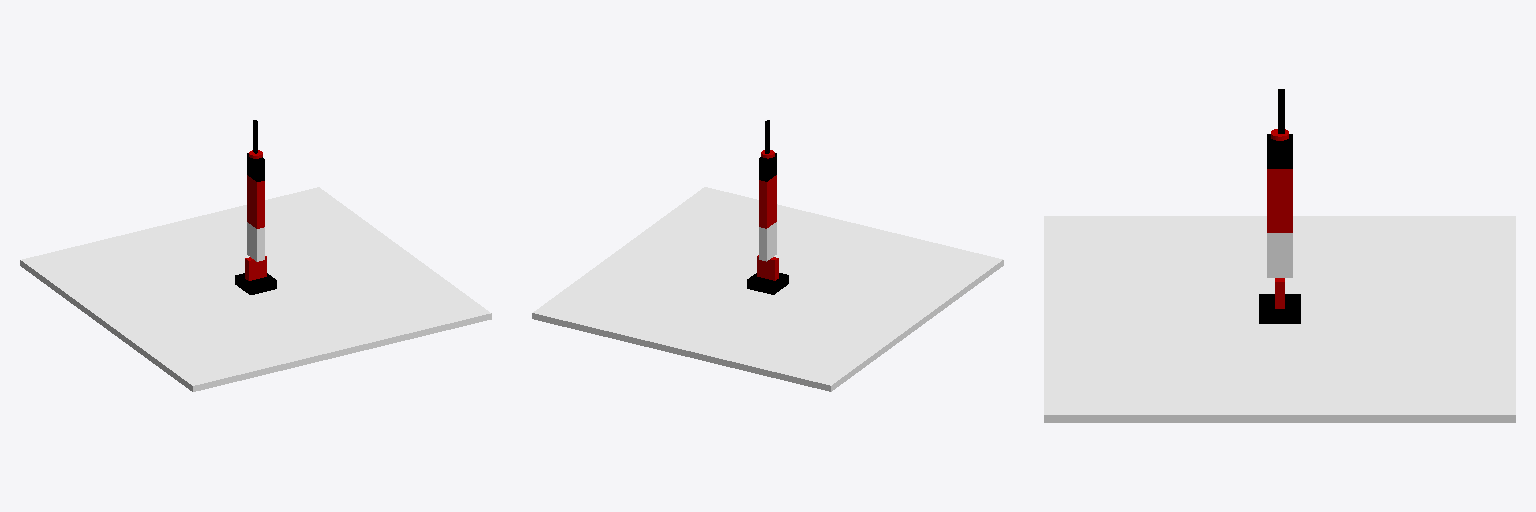
The robot description file, URDF, robot "six_dof_arm":
<?xml version="1.0" ?>
<!-- =================================================================================== -->
<!-- |    This document was autogenerated by xacro from six_dof_arm.xacro              | -->
<!-- |    EDITING THIS FILE BY HAND IS NOT RECOMMENDED                                 | -->
<!-- =================================================================================== -->
<robot name="six_dof_arm" xmlns:xacro="http://ros.org/wiki/xacro">
  <!-- Include materials -->
  <material name="Black">
    <color rgba="0.0 0.0 0.0 1.0"/>
  </material>
  <material name="Red">
    <color rgba="0.8 0.0 0.0 1.0"/>
  </material>
  <material name="White">
    <color rgba="1.0 1.0 1.0 1.0"/>
  </material>
  <!-- BOTTOM FIXED LINK 
This link is the base of the arm in which arm is placed 

-->
  <!-- ///////////////////////////////////////////////////////////////////////////////////////////////////////////////////// -->
  <joint name="bottom_joint" type="fixed">
    <origin rpy="0 0 0" xyz="0 0 0"/>
    <parent link="bottom_link"/>
    <child link="base_link"/>
  </joint>
  <link name="bottom_link">
    <visual>
      <origin rpy="0 0 0" xyz=" 0 0 0"/>
      <geometry>
        <box size="1 1 0.02"/>
      </geometry>
      <material name="White"/>
    </visual>
    <collision>
      <origin rpy="0 0 0" xyz=" 0 0 0"/>
      <geometry>
        <box size="1 1 0.02"/>
      </geometry>
    </collision>
    &gt;

  
  </link>
  <gazebo reference="bottom_link">
    <material>Gazebo/White</material>
  </gazebo>
  <!-- ///////////////////////////////////////////////////////////////////////////////////////////////////////////////////// -->
  <!-- BASE LINK -->
  <link name="base_link">
    <visual>
      <origin rpy="0 0 0" xyz="0 0 0.024"/>
      <!-- rotate PI/2 -->
      <geometry>
        <box size="0.09 0.09 0.028"/>
      </geometry>
      <material name="Black"/>
    </visual>
    <collision>
      <origin rpy="0 0 0" xyz="0 0 0.024"/>
      <!-- rotate PI/2 -->
      <geometry>
        <box size="0.09 0.09 0.028"/>
      </geometry>
    </collision>
    &gt;
	
    <inertial>
      <mass value="1"/>
      <inertia ixx="1.0" ixy="0.0" ixz="0.0" iyy="0.5" iyz="0.0" izz="1.0"/>
    </inertial>
  </link>
  <gazebo reference="base_link">
    <material>Gazebo/Black</material>
  </gazebo>
  <joint name="shoulder_pan_joint" type="revolute">
    <parent link="base_link"/>
    <child link="shoulder_pan_link"/>
    <origin rpy="0 0 0" xyz="0 0 0.038"/>
    <axis xyz="0 0 1"/>
    <limit effort="300" lower="-0.95993167404" upper="2.1816457596" velocity="1"/>
    <dynamics damping="50" friction="1"/>
  </joint>
  <!-- ///////////////////////////////////////////////////////////////////////////////////////////////////////////////////// -->
  <!-- SHOULDER PAN LINK -->
  <link name="shoulder_pan_link">
    <visual>
      <origin rpy="0 0 0" xyz="0 0 0.0325"/>
      <geometry>
        <box size="0.06 0.02 0.065"/>
      </geometry>
      <material name="Red"/>
    </visual>
    <collision>
      <origin rpy="0 0 0" xyz="0 0 0.0325"/>
      <geometry>
        <box size="0.06 0.02 0.065"/>
      </geometry>
    </collision>
    <inertial>
      <mass value="1"/>
      <inertia ixx="1.0" ixy="0.0" ixz="0.0" iyy="0.5" iyz="0.0" izz="1.0"/>
    </inertial>
  </link>
  <gazebo reference="shoulder_pan_link">
    <material>Gazebo/Red</material>
  </gazebo>
  <joint name="shoulder_pitch_joint" type="revolute">
    <parent link="shoulder_pan_link"/>
    <child link="shoulder_pitch_link"/>
    <origin rpy="0 0 0" xyz="0 0 0.065"/>
    <axis xyz="0 1 0"/>
    <limit effort="300" lower="-1.396122596" upper="1.7453417404" velocity="1"/>
    <dynamics damping="50" friction="1"/>
  </joint>
  <!-- ///////////////////////////////////////////////////////////////////////////////////////////////////////////////////// -->
  <!-- SHOULDER PITCH LINK -->
  <link name="shoulder_pitch_link">
    <visual>
      <origin rpy="1.570795 1.570795 1.570795" xyz="0.0 0 0.0525"/>
      <geometry>
        <box size="0.105 0.057 0.025"/>
      </geometry>
      <material name="White"/>
    </visual>
    <collision>
      <origin rpy="1.570795 1.570795 1.570795" xyz="0.0 0 0.0525"/>
      <geometry>
        <box size="0.105 0.057 0.025"/>
      </geometry>
    </collision>
    <inertial>
      <mass value="1"/>
      <inertia ixx="1.0" ixy="0.0" ixz="0.0" iyy="0.5" iyz="0.0" izz="1.0"/>
    </inertial>
  </link>
  <gazebo reference="shoulder_pitch_link">
    <material>Gazebo/White</material>
  </gazebo>
  <joint name="elbow_pitch_joint" type="revolute">
    <parent link="shoulder_pitch_link"/>
    <child link="elbow_pitch_link"/>
    <origin rpy="0 0 0" xyz="0 0 0.105"/>
    <axis xyz="0 -1 0"/>
    <limit effort="300" lower="-3.14159" upper="0" velocity="1"/>
    <dynamics damping="50" friction="1"/>
  </joint>
  <!-- ///////////////////////////////////////////////////////////////////////////////////////////////////////////////////// -->
  <!-- ELBOW PITCH LINK -->
  <link name="elbow_pitch_link">
    <visual>
      <origin rpy="1.570795 1.570795 0" xyz="0 0 0.075"/>
      <geometry>
        <box size="0.15 0.025 0.057"/>
      </geometry>
      <material name="Red"/>
    </visual>
    <collision>
      <origin rpy="1.570795 1.570795 0" xyz="0 0 0.075"/>
      <geometry>
        <box size="0.15 0.025 0.057"/>
      </geometry>
    </collision>
    <inertial>
      <mass value="1"/>
      <inertia ixx="1.0" ixy="0.0" ixz="0.0" iyy="0.5" iyz="0.0" izz="1.0"/>
    </inertial>
  </link>
  <gazebo reference="elbow_pitch_link">
    <material>Gazebo/Red</material>
  </gazebo>
  <joint name="wrist_pitch_joint" type="revolute">
    <parent link="elbow_pitch_link"/>
    <child link="wrist_pitch_link"/>
    <origin rpy="0 0 0" xyz="0.0 0.00 0.150"/>
    <axis xyz="0 1 0"/>
    <limit effort="300" lower="-1.39626222222" upper="1.74532777778" velocity="1"/>
    <dynamics damping="50" friction="1"/>
  </joint>
  <!-- WRIST PITCH LINK -->
  <link name="wrist_pitch_link">
    <visual>
      <origin rpy="0 1.570795 1.570795" xyz="0 0 0.035"/>
      <geometry>
        <box size="0.07 0.025 0.057"/>
      </geometry>
      <material name="Black"/>
    </visual>
    <collision>
      <origin rpy="0 1.570795 1.570795" xyz="0 0 0.035"/>
      <geometry>
        <box size="0.07 0.025 0.057"/>
      </geometry>
    </collision>
    <inertial>
      <mass value="1"/>
      <inertia ixx="1.0" ixy="0.0" ixz="0.0" iyy="0.5" iyz="0.0" izz="1.0"/>
    </inertial>
  </link>
  <gazebo reference="wrist_pitch_link">
    <material>Gazebo/White</material>
  </gazebo>
  <joint name="gripper_roll_joint" type="revolute">
    <parent link="wrist_pitch_link"/>
    <child link="gripper_roll_link"/>
    <origin rpy="0 0 0" xyz="0 0 0.07"/>
    <axis xyz="0 0 1"/>
    <!--
		<limit effort="300" velocity="1" lower="-2.61799387799" upper="2.6128806087" />
		-->
    <limit effort="300" lower="0" upper="3.14159" velocity="1"/>
    <dynamics damping="50" friction="1"/>
  </joint>
  <!-- ///////////////////////////////////////////////////////////////////////////////////////////////////////////////////// -->
  <!-- GRIPPER ROLL LINK -->
  <link name="gripper_roll_link">
    <visual>
      <origin rpy="0 0 0" xyz="0 0 0.005"/>
      <geometry>
        <cylinder length="0.01" radius="0.02"/>
      </geometry>
      <material name="Red"/>
    </visual>
    <collision>
      <origin rpy="0 0 0" xyz="0 0 0.005"/>
      <geometry>
        <cylinder length="0.01" radius="0.02"/>
      </geometry>
    </collision>
    <inertial>
      <mass value="1"/>
      <inertia ixx="1.0" ixy="0.0" ixz="0.0" iyy="0.5" iyz="0.0" izz="1.0"/>
    </inertial>
  </link>
  <gazebo reference="gripper_roll_link">
    <material>Gazebo/Red</material>
  </gazebo>
  <!--joint name="finger_joint1" type="prismatic">
    <parent link="gripper_roll_link"/>
    <child link="gripper_finger_link1"/>
    <origin xyz="0 0 0.01" />
    <axis xyz="1 0 0" />
      <limit effort="100" lower="0" upper="0.025" velocity="1.0"/>


      <safety_controller k_position="20"
                         k_velocity="20"
                         soft_lower_limit="${-0.15 }"
                         soft_upper_limit="${ 0.0 }"/>


    <dynamics damping="50" friction="1"/>
  </joint -->
  <!-- ///////////////////////////////////////////////////////////////////////////////////////////////////////////////////// -->
  <!-- LEFT GRIPPER AFT LINK -->
  <link name="gripper_finger_link1">
    <visual>
      <origin rpy="0 1.570795 0" xyz="0.0 0 0.0535"/>
      <geometry>
        <box size="0.105 0.01 0.01"/>
      </geometry>
      <material name="Black"/>
    </visual>
    <inertial>
      <mass value="1"/>
      <inertia ixx="1.0" ixy="0.0" ixz="0.0" iyy="0.5" iyz="0.0" izz="1.0"/>
    </inertial>
  </link>
  <gazebo reference="l_gripper_aft_link">
    <material>Gazebo/Black</material>
  </gazebo>
  <!-- Joint between Wrist roll and finger 1 -->
  <joint name="finger_joint1" type="prismatic">
    <parent link="gripper_roll_link"/>
    <child link="gripper_finger_link1"/>
    <origin xyz="0.0 0.0 0.005"/>
    <axis xyz="1 0 0"/>
    <limit effort="1" lower="0" upper="0.025" velocity="1.0"/>
    <!--    <mimic joint="gripper_finger_joint" multiplier="-1.0" offset="0.0" /> -->
    <dynamics damping="50" friction="1"/>
  </joint>
  <!-- RIGHT GRIPPER AFT LINK -->
  <link name="gripper_finger_link2">
    <visual>
      <origin rpy="0 1.570795 0" xyz="0.0 0 0.0535"/>
      <geometry>
        <box size="0.105 0.01 0.01"/>
      </geometry>
      <material name="Black"/>
    </visual>
    <inertial>
      <mass value="1"/>
      <inertia ixx="1.0" ixy="0.0" ixz="0.0" iyy="0.5" iyz="0.0" izz="1.0"/>
    </inertial>
  </link>
  <gazebo reference="r_gripper_aft_link">
    <material>Gazebo/Black</material>
  </gazebo>
  <!-- Joint between Wrist roll and finger 2 -->
  <joint name="finger_joint2" type="prismatic">
    <parent link="gripper_roll_link"/>
    <child link="gripper_finger_link2"/>
    <origin xyz="0.0 0.005 0.005"/>
    <axis xyz="1 0 0"/>
    <limit effort="1" lower="-0.025" upper="0" velocity="1.0"/>
    <!--    <mimic joint="gripper_finger_joint" multiplier="-1.0" offset="0.0" /> -->
    <dynamics damping="50" friction="1"/>
  </joint>
  <!-- Grasping frame -->
  <!-- link name="grasping_frame">

      <inertial>
        <origin xyz="0 0 0" rpy="0 0 0"/>
        <mass value="0.0001"/>
        <cuboid_inertia mass="0.0001" x="0.001" y="0.001" z="0.001"/>
        <inertia  ixx="1.0" ixy="0.0"  ixz="0.0"  iyy="100.0"  iyz="0.0"  izz="1.0" />

      </inertial>

    <visual>
      <origin xyz="0 0 0"/>
      <geometry>
					
          <box size="${grasp_frame_len} ${grasp_frame_width} ${grasp_frame_height}" />
					
      </geometry>
      <material name="White" />
    </visual>

    </link>
	
    <joint name="grasping_frame_joint" type="fixed">
      <parent link="gripper_roll_link"/>
      <child link="grasping_frame"/>
      <origin xyz="0.08 0 0" rpy="0 0 0"/>
    </joint>
		
  <xacro:include filename="$(find mastering_ros_robot_description_pkg)/urdf/sensors/xtion_pro_live.urdf.xacro"/ -->
  <!-- ///////////////////////////////////////////////////////////////////////////////////////////////////////////////////// -->
  <!-- Transmissions for ROS Control -->
  <transmission name="tran1">
    <type>transmission_interface/SimpleTransmission</type>
    <joint name="shoulder_pan_joint">
      <hardwareInterface>hardware_interface/PositionJointInterface</hardwareInterface>
    </joint>
    <actuator name="motor1">
      <hardwareInterface>hardware_interface/PositionJointInterface</hardwareInterface>
      <mechanicalReduction>1</mechanicalReduction>
    </actuator>
  </transmission>
  <transmission name="tran1">
    <type>transmission_interface/SimpleTransmission</type>
    <joint name="shoulder_pitch_joint">
      <hardwareInterface>hardware_interface/PositionJointInterface</hardwareInterface>
    </joint>
    <actuator name="motor1">
      <hardwareInterface>hardware_interface/PositionJointInterface</hardwareInterface>
      <mechanicalReduction>1</mechanicalReduction>
    </actuator>
  </transmission>
  <transmission name="tran1">
    <type>transmission_interface/SimpleTransmission</type>
    <joint name="elbow_pitch_joint">
      <hardwareInterface>hardware_interface/PositionJointInterface</hardwareInterface>
    </joint>
    <actuator name="motor1">
      <hardwareInterface>hardware_interface/PositionJointInterface</hardwareInterface>
      <mechanicalReduction>1</mechanicalReduction>
    </actuator>
  </transmission>
  <transmission name="tran1">
    <type>transmission_interface/SimpleTransmission</type>
    <joint name="wrist_pitch_joint">
      <hardwareInterface>hardware_interface/PositionJointInterface</hardwareInterface>
    </joint>
    <actuator name="motor1">
      <hardwareInterface>hardware_interface/PositionJointInterface</hardwareInterface>
      <mechanicalReduction>1</mechanicalReduction>
    </actuator>
  </transmission>
  <transmission name="tran1">
    <type>transmission_interface/SimpleTransmission</type>
    <joint name="gripper_roll_joint">
      <hardwareInterface>hardware_interface/PositionJointInterface</hardwareInterface>
    </joint>
    <actuator name="motor1">
      <hardwareInterface>hardware_interface/PositionJointInterface</hardwareInterface>
      <mechanicalReduction>1</mechanicalReduction>
    </actuator>
  </transmission>
  <transmission name="tran1">
    <type>transmission_interface/SimpleTransmission</type>
    <joint name="finger_joint1">
      <hardwareInterface>hardware_interface/PositionJointInterface</hardwareInterface>
    </joint>
    <actuator name="motor1">
      <hardwareInterface>hardware_interface/PositionJointInterface</hardwareInterface>
      <mechanicalReduction>1</mechanicalReduction>
    </actuator>
  </transmission>
  <transmission name="tran1">
    <type>transmission_interface/SimpleTransmission</type>
    <joint name="finger_joint2">
      <hardwareInterface>hardware_interface/PositionJointInterface</hardwareInterface>
    </joint>
    <actuator name="motor1">
      <hardwareInterface>hardware_interface/PositionJointInterface</hardwareInterface>
      <mechanicalReduction>1</mechanicalReduction>
    </actuator>
  </transmission>
  <!-- ros_control plugin -->
  <gazebo>
    <plugin filename="libgazebo_ros_control.so" name="gazebo_ros_control">
      <robotNamespace>/six_dof_arm</robotNamespace>
    </plugin>
  </gazebo>
</robot>

--- Render facts (derived) ---
3 views of the same robot in one strip: view 1: azimuth 30°, elevation 25°; view 2: azimuth 150°, elevation 25°; view 3: azimuth 270°, elevation 25° (orthographic).
Robot: six_dof_arm — 9 links, 8 joints (5 revolute, 2 prismatic, 1 fixed); root link bottom_link; default pose: every joint at zero.
Links seen in each view (by area): view 1: bottom_link, elbow_pitch_link, base_link, shoulder_pitch_link; view 2: bottom_link, elbow_pitch_link, base_link, shoulder_pitch_link; view 3: bottom_link, elbow_pitch_link, shoulder_pitch_link, base_link, wrist_pitch_link.
Link boxes in pixels (x1,y1,x2,y2): bottom_link: (20, 187, 491, 391); elbow_pitch_link: (247, 175, 264, 228); base_link: (235, 273, 276, 294); shoulder_pitch_link: (247, 222, 264, 261); bottom_link: (532, 187, 1003, 391); elbow_pitch_link: (759, 175, 776, 228); base_link: (747, 273, 788, 294); shoulder_pitch_link: (759, 222, 776, 261); bottom_link: (1044, 216, 1515, 422); elbow_pitch_link: (1267, 169, 1292, 232); shoulder_pitch_link: (1267, 233, 1292, 277); base_link: (1259, 294, 1300, 323); wrist_pitch_link: (1267, 134, 1292, 168).
Bounding box of the posed robot: 1 × 1 × 0.549 m (x, y, z).
Geometry: primitives only (box / cylinder / sphere), no mesh files.